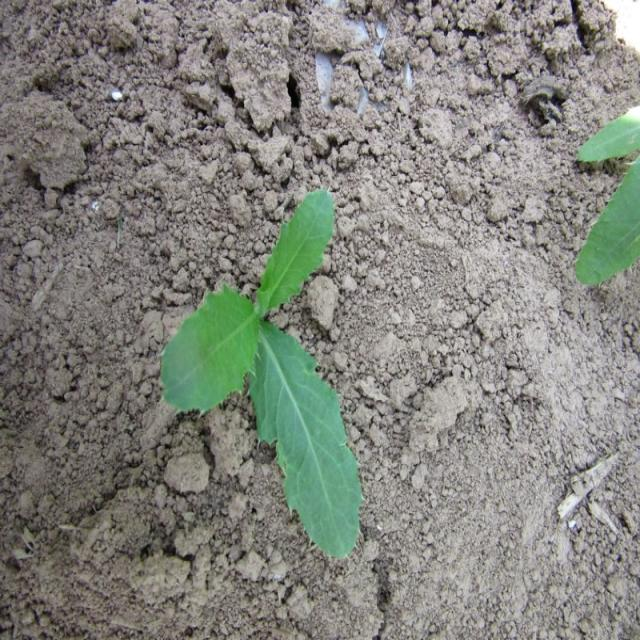field_thistle: (146, 182, 382, 577)
